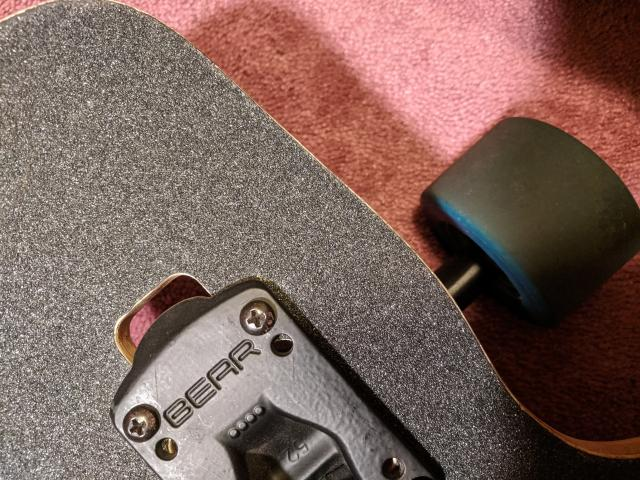CRS: (239, 297, 274, 337), (122, 408, 159, 443)
